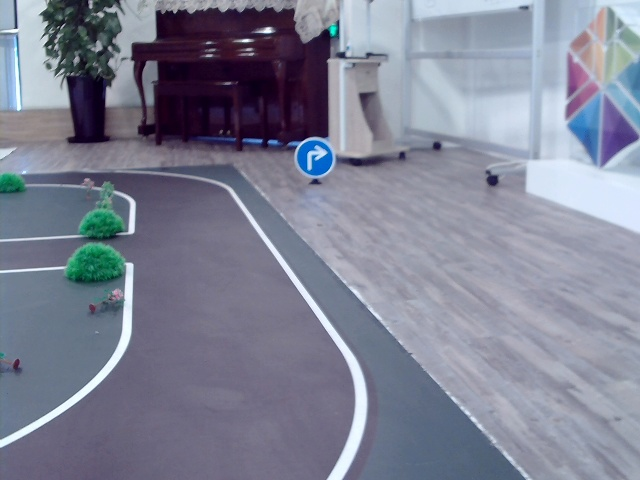turn_right: (304, 143, 325, 171)
